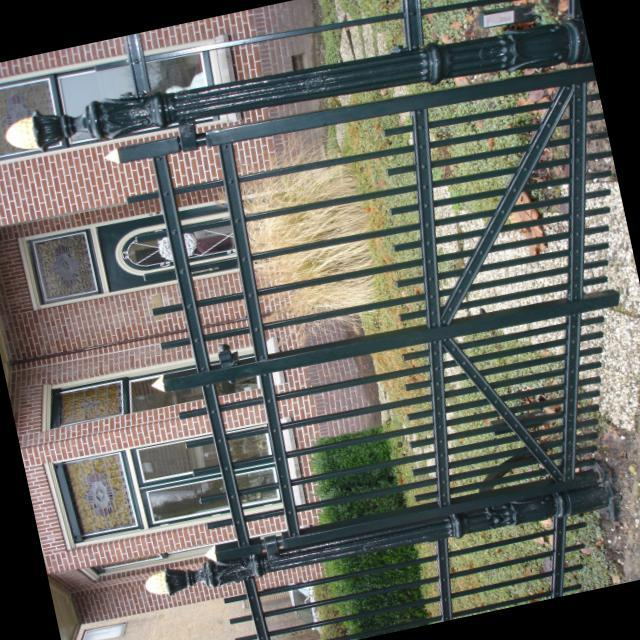fence line: (113, 38, 639, 568), (216, 507, 621, 639)
